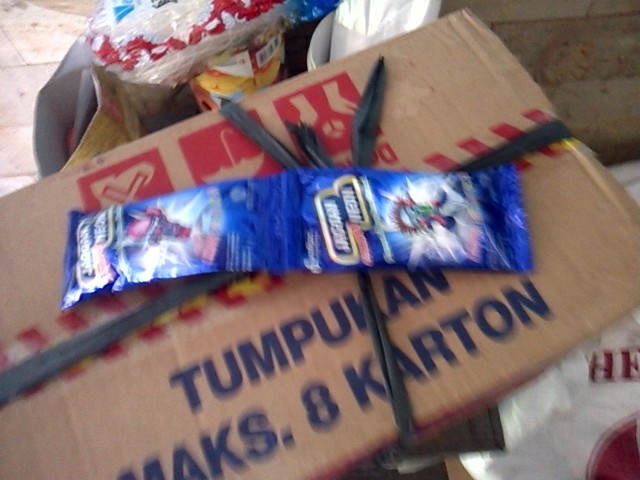jagoan neon: (62, 174, 279, 311), (281, 165, 531, 271)
